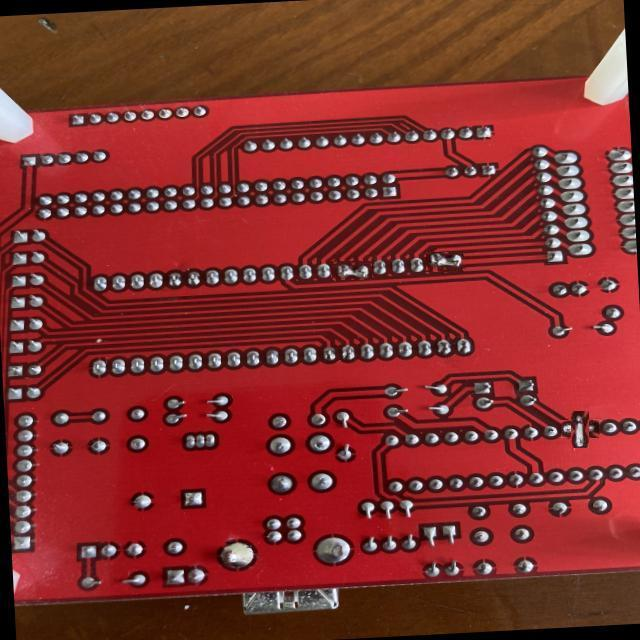damged: (331, 260, 372, 280), (566, 416, 594, 444), (426, 252, 464, 272)
